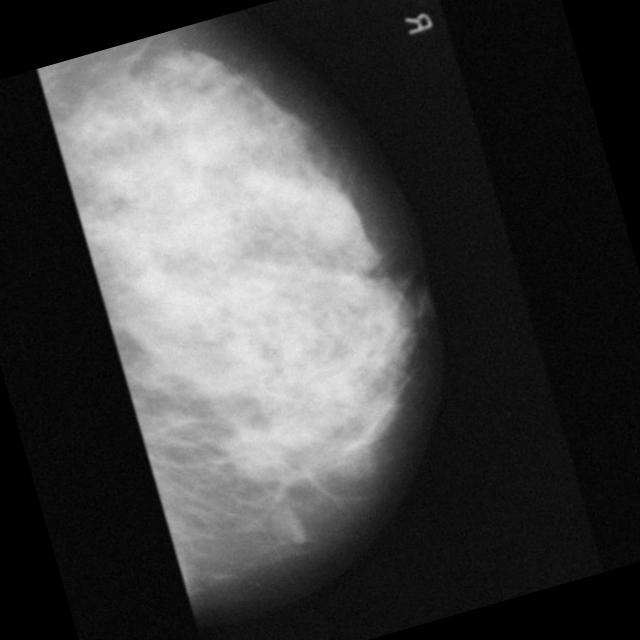CALC: (114, 162, 135, 184)
